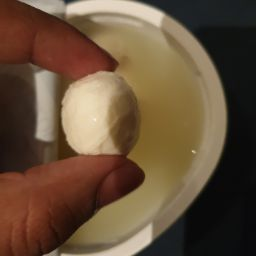Mini Mozzarella Cheese: (48, 68, 157, 162)
